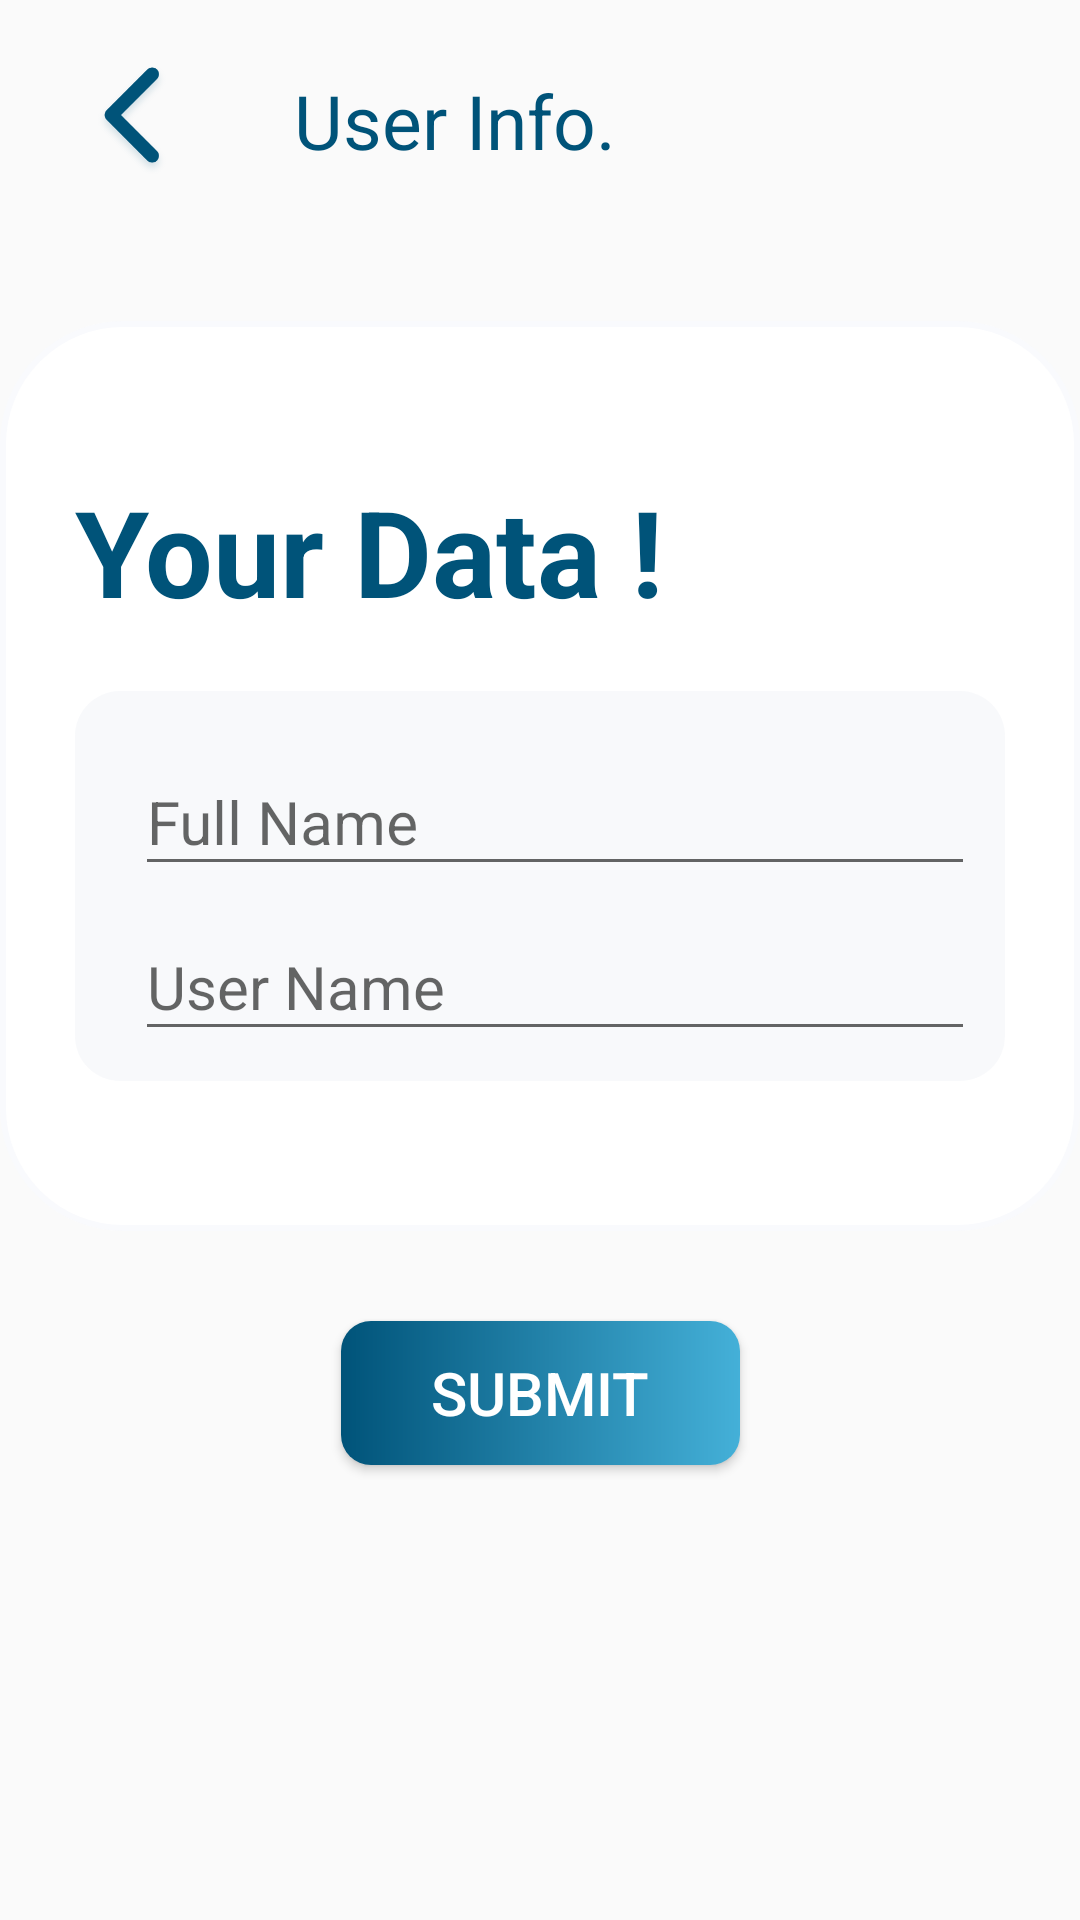

Named icons in this screenshot (1080px×1920px) and their bounding boxes, (x1,y1,x2,y2):
arrow back: (104,67,159,165)
